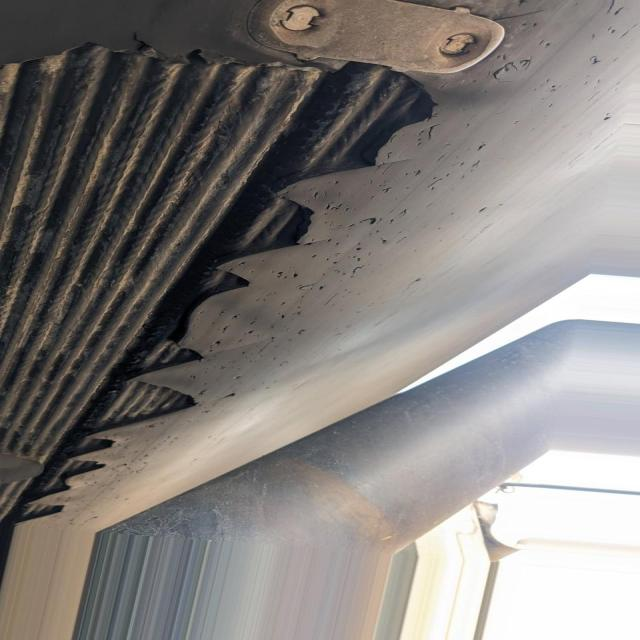Tear: (0, 33, 439, 556)
